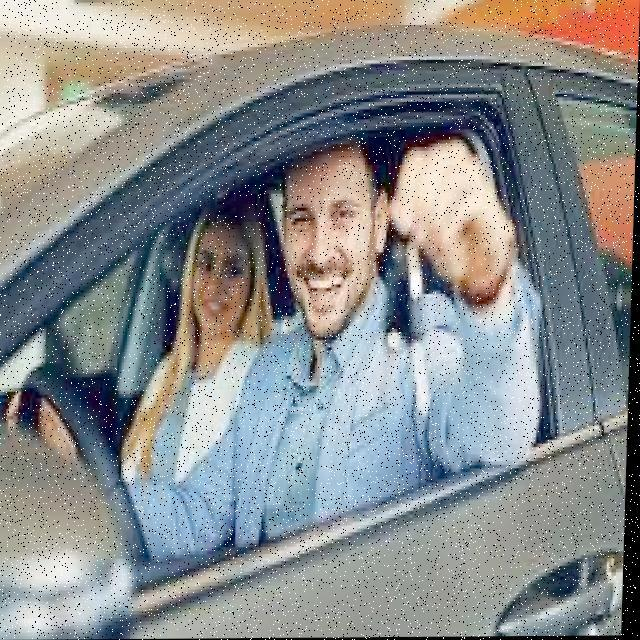noSeatbelt: (210, 321, 433, 576)
